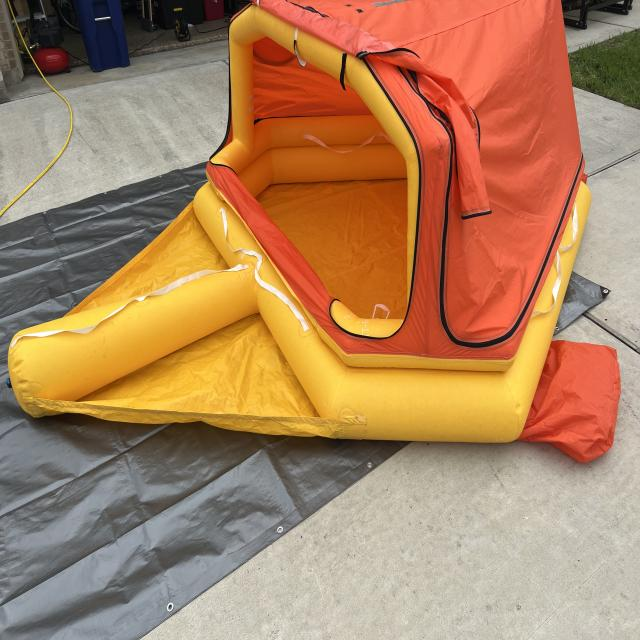Multi-person_life_raft: (7, 0, 621, 462)
